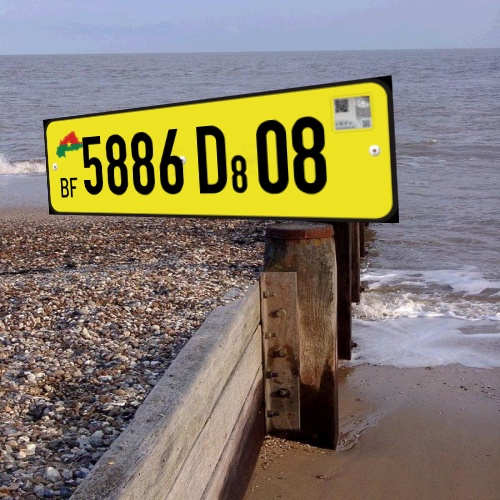plate: (30, 71, 408, 245)
